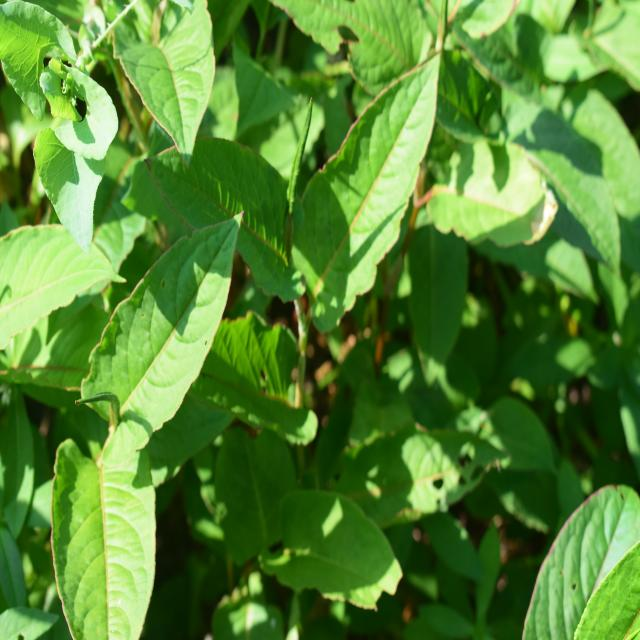Chinese_knotweed: (24, 209, 262, 615), (133, 63, 440, 311)
